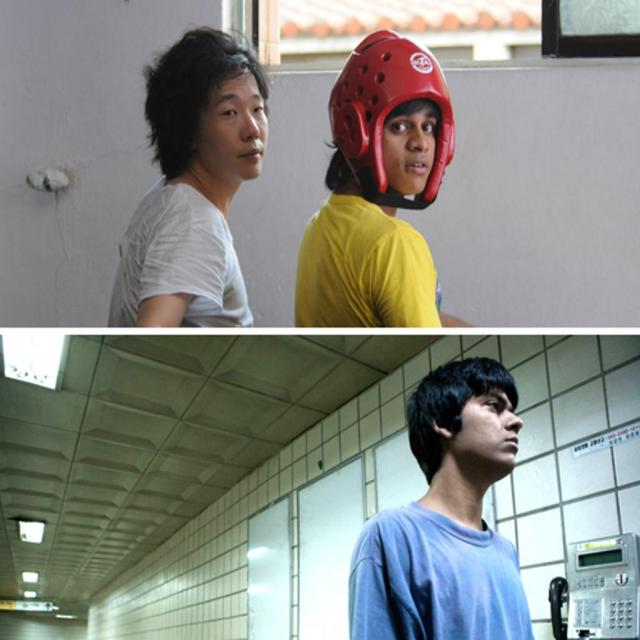nomask: (202, 58, 266, 174), (450, 367, 524, 466), (376, 84, 436, 186)
